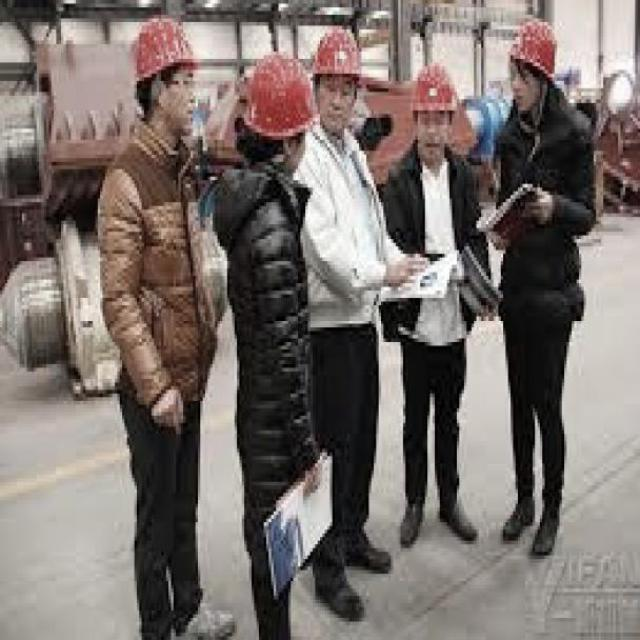helmet: (229, 26, 315, 180), (119, 0, 203, 144), (493, 10, 560, 118), (302, 14, 360, 129), (403, 62, 452, 162)
